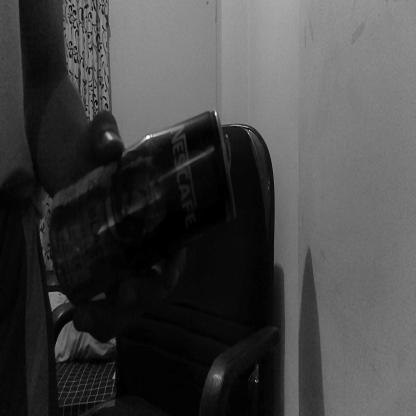alumunium_can: (51, 110, 237, 310)
